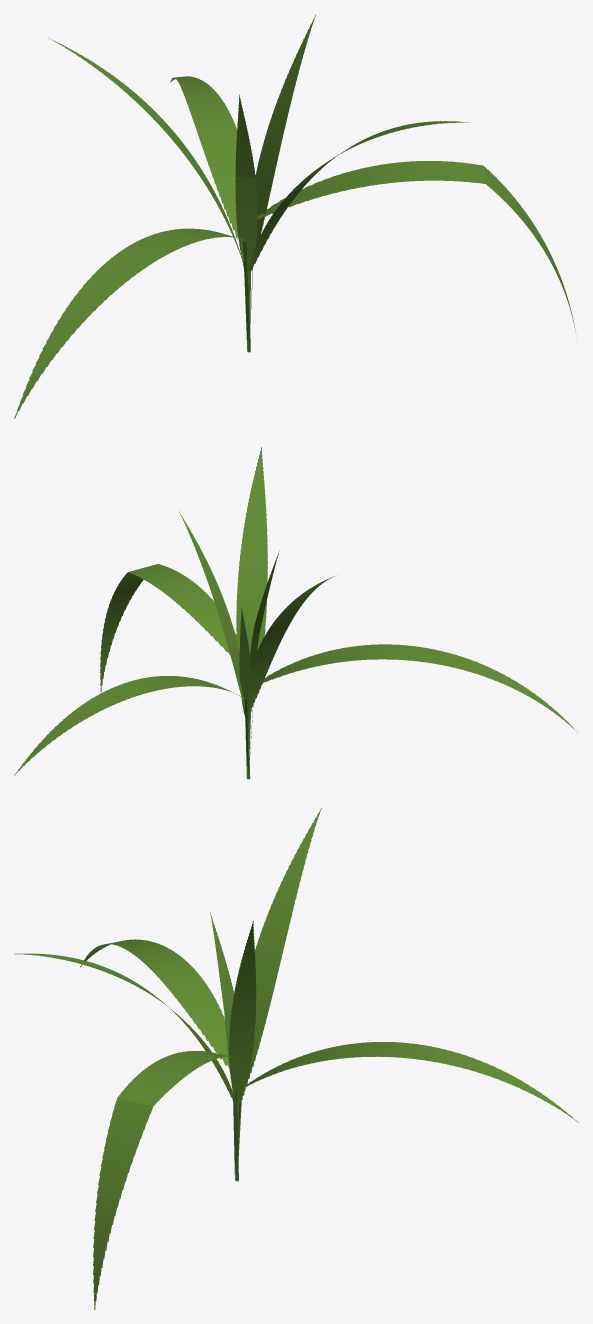
Rendered from maize_003_day_065.dae.
3 renders of one model, top to bottom at view 1: azimuth 30°, elevation 25°; view 2: azimuth 150°, elevation 25°; view 3: azimuth 270°, elevation 25°, orthographic. The views are drawn at different scales.
Visible parts, largest first — view 1: node; view 2: node; view 3: node.
Part boxes in pixels (x1,y1,x2,y2): node: (14,14,576,418); node: (14,447,578,779); node: (14,808,578,1309).
Bounding box in the file's own units: 0.8362 × 0.4634 × 0.7584.
1 material, 1 textured.
